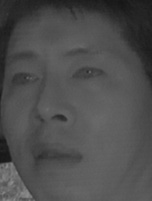eye: (8, 68, 40, 90), (71, 62, 103, 84)
mouth: (28, 139, 87, 176)
